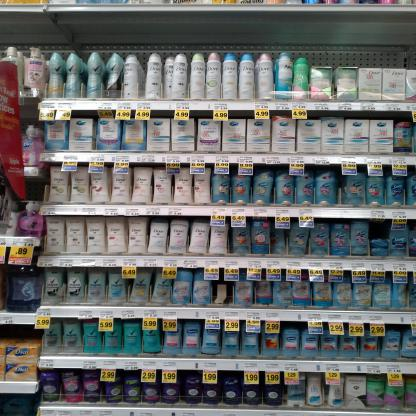Void: (57, 25, 302, 53), (317, 23, 412, 66), (372, 220, 391, 240)
